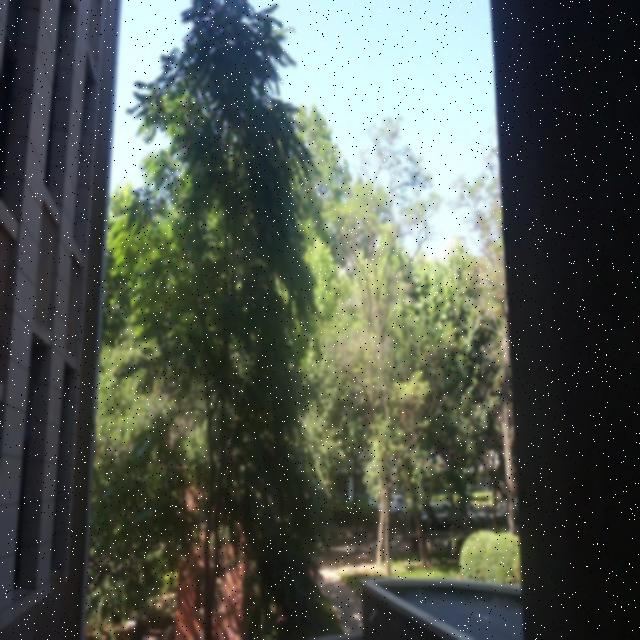UAV: (406, 152, 414, 162)
